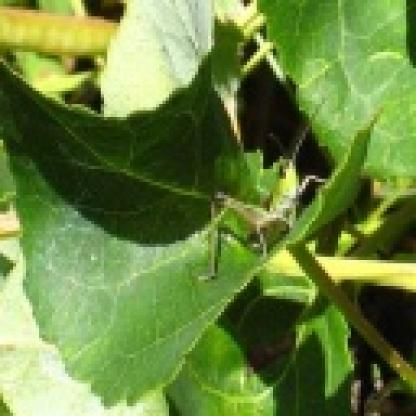grasshopper: (209, 130, 328, 280)
